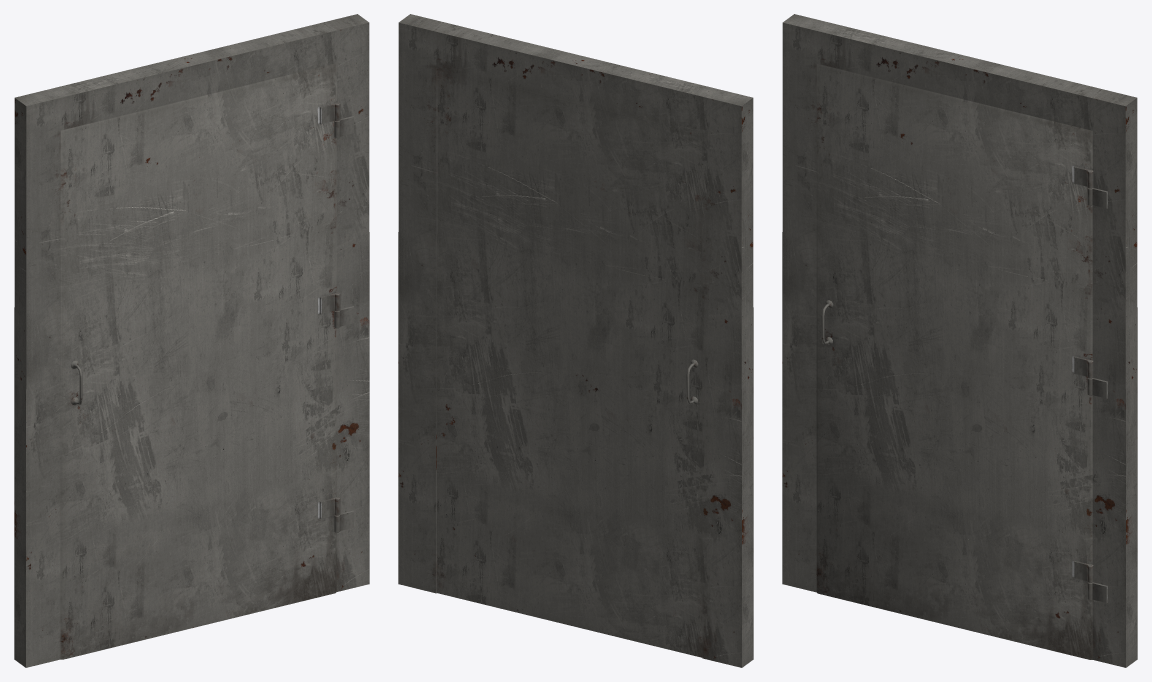
The model's file is Old_metal_door.fbx.
3 renders of one model, left to right at view 1: azimuth 30°, elevation 25°; view 2: azimuth 150°, elevation 25°; view 3: azimuth 330°, elevation 25°, orthographic.
Parts seen in each view (by area): view 1: Door_Low, Frame_Low; view 2: Door_Low, Frame_Low; view 3: Door_Low, Frame_Low.
Part boxes in pixels (box(x1,y1,x2,y2)): Door_Low: box(60, 63, 340, 659); Frame_Low: box(14, 14, 369, 667); Door_Low: box(437, 70, 702, 657); Frame_Low: box(398, 14, 753, 667); Door_Low: box(816, 63, 1093, 659); Frame_Low: box(782, 14, 1137, 667).
Bounding box in the file's own units: 1.62 × 2.52 × 0.2134.
Materials: 1 (1 with a texture image).
